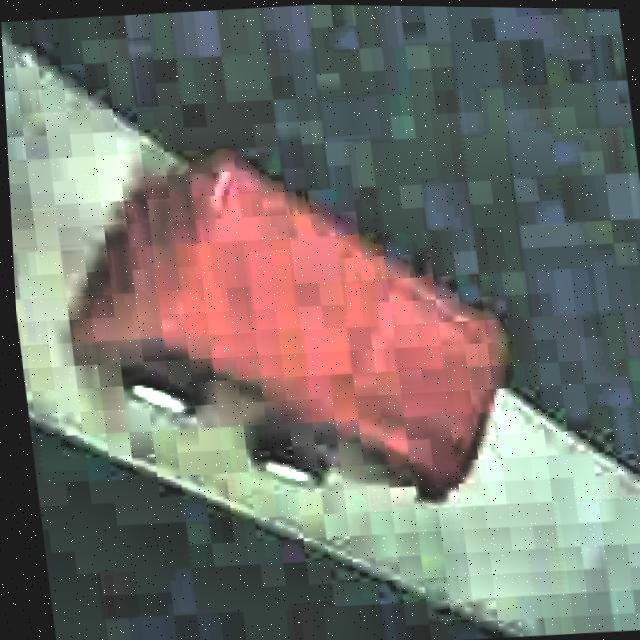bus: (44, 128, 529, 531)
